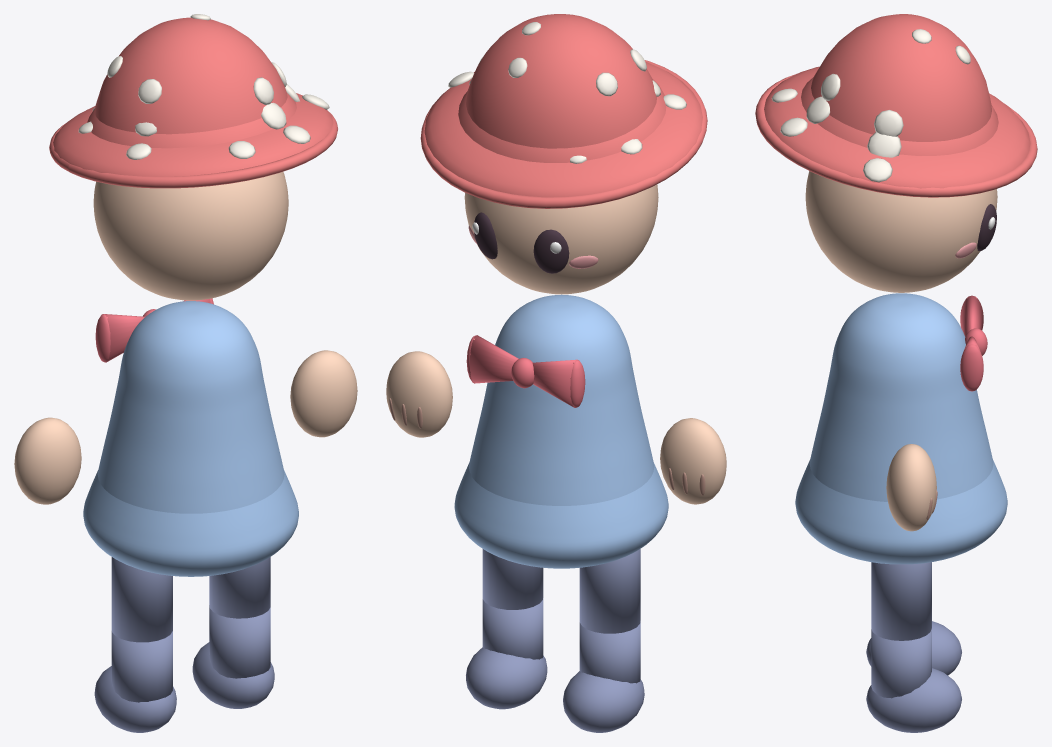
File: folk.glb
3 renders of one model, left to right at view 1: azimuth 30°, elevation 25°; view 2: azimuth 150°, elevation 25°; view 3: azimuth 270°, elevation 25°, orthographic.
Parts seen in each view (by area): view 1: Capsule, Head, HatTall, HatFlat, Dress, ShinR, ShinL, HandL, HandR, LegL, HatDome, LegR (+1 smaller); view 2: Capsule, HatTall, HatFlat, Head, Dress, ShinL, ShinR, HandR, HandL, LegL, BowTie, HatDome (+1 smaller); view 3: Capsule, HatTall, Head, HatFlat, Dress, ShinR, LegR, HatDome, HandR, BowTie, ShinL.
Boxes of the visible parts, x1,y1,x2,y2 form: Capsule: (97, 301, 284, 513); Head: (93, 172, 288, 300); HatTall: (94, 14, 287, 134); HatFlat: (49, 93, 337, 188); Dress: (83, 470, 298, 576); ShinR: (192, 605, 274, 708); ShinL: (94, 631, 176, 732); HandL: (14, 417, 81, 504); HandR: (290, 350, 357, 437); LegL: (111, 557, 172, 642); HatDome: (87, 84, 299, 148); LegR: (209, 557, 270, 618); Capsule: (469, 294, 654, 505); HatTall: (466, 14, 656, 148); HatFlat: (420, 60, 707, 208); Head: (464, 184, 658, 294); Dress: (454, 462, 668, 568); ShinL: (563, 621, 644, 732); ShinR: (466, 598, 547, 709); HandR: (386, 351, 452, 437); HandL: (660, 418, 726, 504); LegL: (579, 549, 640, 633); BowTie: (466, 335, 585, 407); HatDome: (458, 78, 666, 162); Capsule: (809, 293, 993, 501); HatTall: (811, 14, 991, 141); Head: (805, 171, 997, 292); HatFlat: (755, 66, 1037, 197); Dress: (795, 459, 1007, 564); ShinR: (866, 628, 961, 732); LegR: (871, 562, 931, 640); HatDome: (801, 77, 998, 157); HandR: (886, 444, 937, 531); BowTie: (960, 295, 987, 391); ShinL: (866, 621, 961, 675).
Bounding box in the file's own units: 0.76 × 1.49 × 0.5585.
